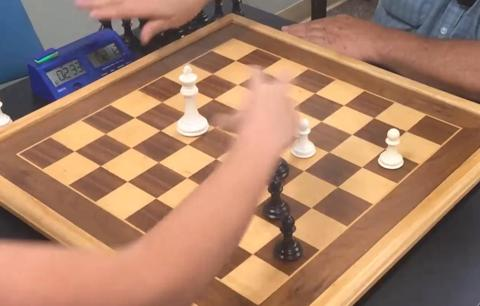xcorner: (231, 56, 241, 65), (251, 249, 260, 258), (281, 225, 290, 234), (308, 202, 317, 211), (334, 181, 343, 190), (359, 162, 368, 171), (381, 143, 390, 152), (403, 126, 412, 135), (216, 229, 225, 238), (246, 206, 255, 215), (275, 185, 284, 194), (301, 165, 310, 174), (326, 147, 335, 156), (349, 129, 358, 138), (371, 113, 380, 122), (184, 210, 193, 219), (214, 189, 223, 198), (243, 169, 252, 178), (269, 150, 278, 159), (294, 133, 303, 142), (318, 116, 327, 125), (340, 100, 349, 109), (153, 193, 162, 202), (184, 173, 193, 182), (213, 154, 222, 163), (239, 136, 248, 145), (265, 119, 274, 128), (289, 103, 298, 112), (311, 88, 320, 97), (125, 176, 134, 185), (155, 157, 164, 166), (184, 139, 193, 148), (211, 122, 220, 131), (237, 106, 246, 115), (261, 91, 270, 100), (283, 77, 292, 86), (97, 161, 106, 170), (128, 142, 137, 151), (157, 125, 166, 134), (184, 109, 193, 118), (210, 94, 219, 103), (234, 80, 243, 89), (257, 66, 266, 75), (72, 146, 81, 155), (102, 128, 111, 137), (131, 112, 140, 121), (158, 97, 167, 106), (184, 82, 193, 91), (208, 69, 217, 78)
